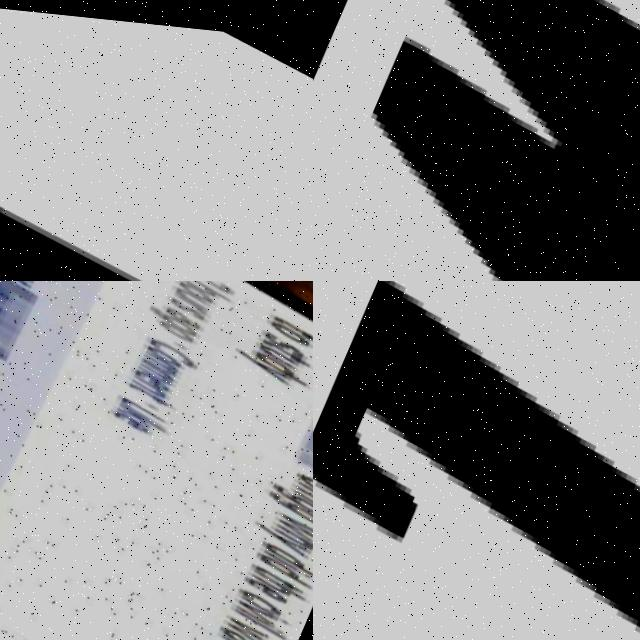W: (313, 0, 640, 281)
Y: (0, 73, 313, 281)
Z: (313, 281, 640, 640)
